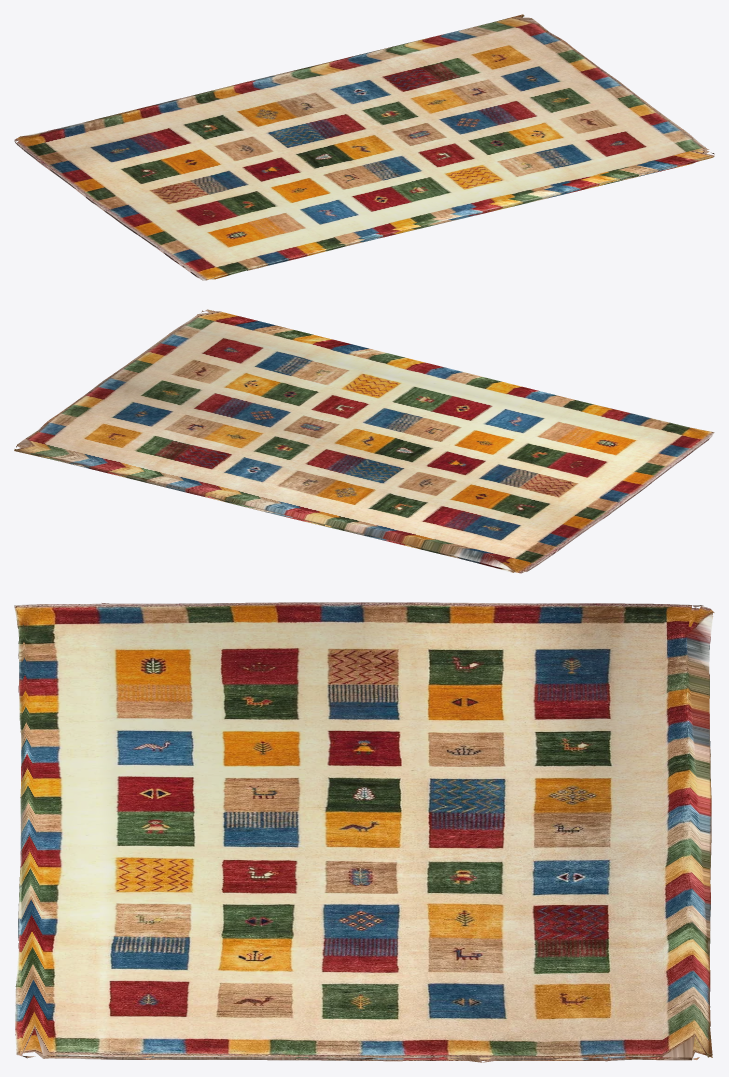
Rendered from tappeto_b.glb.
3 renders of one model, top to bottom at view 1: azimuth 30°, elevation 25°; view 2: azimuth 150°, elevation 25°; view 3: azimuth 270°, elevation 25°, orthographic. The views are drawn at different scales.
Visible parts, largest first — view 1: Persian Qashqai Rug 245 x 154 cm_0; view 2: Persian Qashqai Rug 245 x 154 cm_0; view 3: Persian Qashqai Rug 245 x 154 cm_0.
Boxes of the visible parts, bbox=[...] form: Persian Qashqai Rug 245 x 154 cm_0: bbox=[14, 14, 714, 280]; Persian Qashqai Rug 245 x 154 cm_0: bbox=[14, 309, 714, 573]; Persian Qashqai Rug 245 x 154 cm_0: bbox=[14, 602, 714, 1062].
Size of the model in its own units: 0.9931 by 0.0243 by 0.6439.
Materials: 1 (1 with a texture image).
